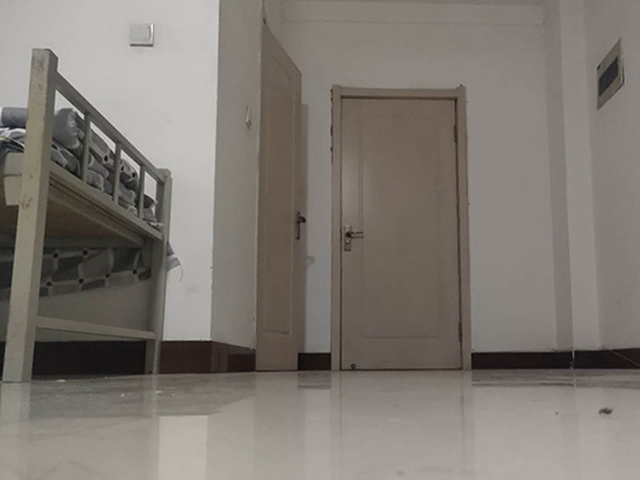bed: (1, 45, 174, 386)
wire: (603, 345, 640, 369)
